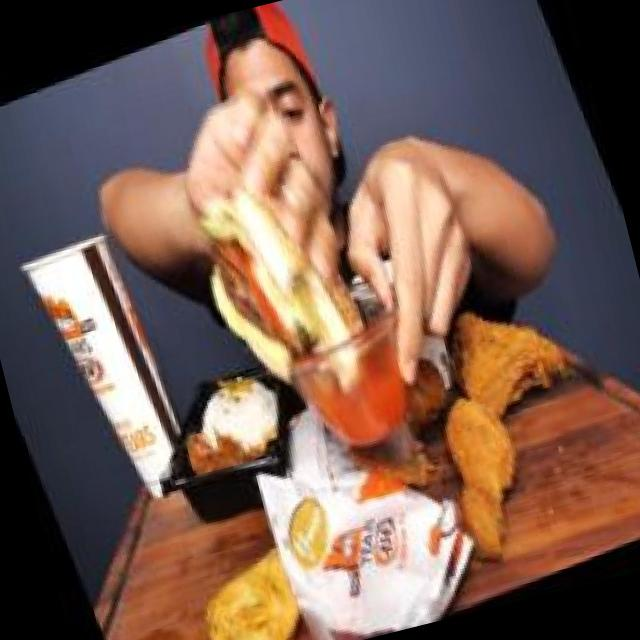AW cola: (8, 198, 232, 531)
black pepper rice bowl: (150, 342, 312, 499)
fried chicken: (357, 235, 640, 595)
mozza burger: (166, 127, 404, 432)
perkedel: (171, 526, 327, 640)
